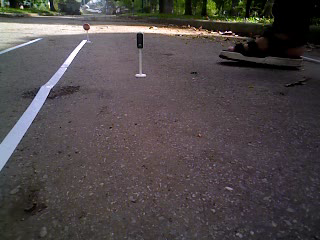Blue: (135, 30, 147, 51)
